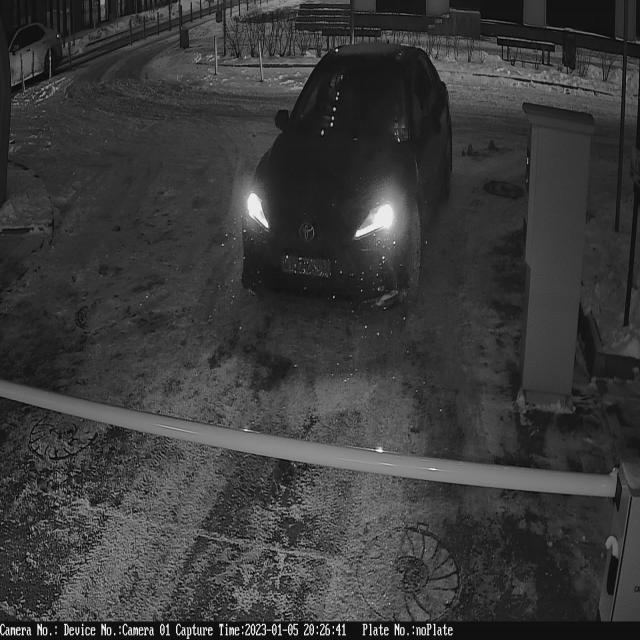car-plate-numbers: (280, 252, 333, 281)
